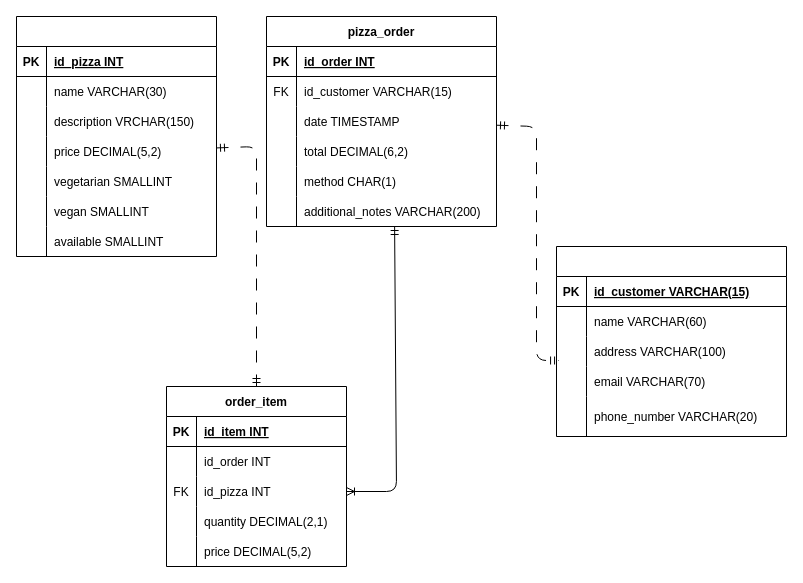
Image size: 803x583. Some labels were removed from this diagram. The shapes that lost their labels are listed below. From the top down, each one's box as (x1, y1, x2, y2) in pixels, then its label:
(16, 16, 216, 256): pizzas
(556, 246, 786, 436): customers
